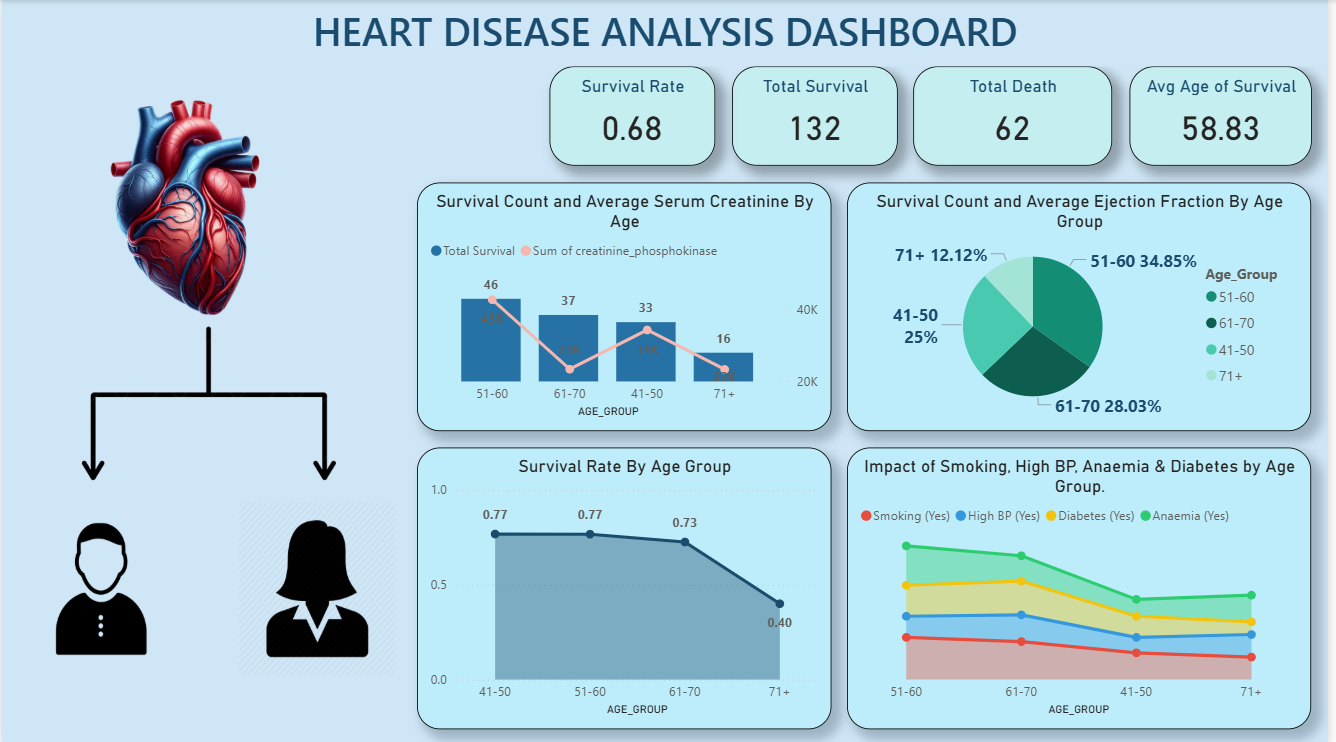

The page's visual inventory and layout, read from the dashboard file:
{"tool":"powerbi","page":{"name":"Page 1","canvas":[1280,720],"ordinal":0},"visuals":[{"type":"card","title":"Total Survival","fields":{"Values":["heartfail.Total Survival"]},"box":[704,64,160,96],"z":0},{"type":"card","title":"Survival Rate","fields":{"Values":["heartfail.Survival Rate"]},"box":[528,64,160,96],"z":1000},{"type":"card","title":"Total Death","fields":{"Values":["heartfail.Total Death"]},"box":[880,64,192,96],"z":2000},{"type":"card","title":"Avg Age of Survival","fields":{"Values":["heartfail.Survival % by Age"]},"box":[1088,64,176,96],"z":3000},{"type":"lineClusteredColumnComboChart","title":"Survival Count and Average Serum Creatinine By Age","fields":{"Category":["heartfail.AGE_GROUP"],"Y":["heartfail.Total Survival"],"Y2":["Sum(heartfail.creatinine_phosphokinase)"]},"box":[400,176,400,240],"z":4000},{"type":"pieChart","title":"Survival Count and Average Ejection Fraction By Age Group","fields":{"Category":["heartfail.AGE_GROUP"],"Y":["heartfail.Total Survival"]},"box":[816,176,448,240],"z":5000},{"type":"areaChart","title":"Survival Rate By Age Group","fields":{"Category":["heartfail.AGE_GROUP"],"Y":["heartfail.Survival Rate"]},"box":[400,432,400,272],"z":6000},{"type":"stackedAreaChart","title":"Impact of Smoking, High BP, Anaemia & Diabetes by Age Group.","fields":{"Category":["heartfail.AGE_GROUP"],"Y":["heartfail.Smoking (Yes)","heartfail.High BP (Yes)","heartfail.Diabetes (Yes)","heartfail.Anaemia (Yes)"]},"box":[816,432,448,272],"z":7000},{"type":"textbox","box":[0,0,1280,64],"z":8000},{"type":"slicer","fields":{"Values":["heartfail.sex"]},"box":[0,704,16,16],"z":9000},{"type":"actionButton","title":"♂","box":[16,480,160,176],"z":10000},{"type":"actionButton","title":"♀","box":[224,480,160,176],"z":11000},{"type":"actionButton","box":[64,80,224,240],"z":12000},{"type":"image","box":[16,256,368,288],"z":13000}]}

Visuals, with their boxes in screenshot pixels (x1, y1, x2, y2), scaled from the page's 1280x720 canvas onto the 1336x742 screenshot:
"Total Survival" card: left=735, top=66, right=902, bottom=165
"Survival Rate" card: left=551, top=66, right=718, bottom=165
"Total Death" card: left=918, top=66, right=1119, bottom=165
"Avg Age of Survival" card: left=1136, top=66, right=1319, bottom=165
"Survival Count and Average Serum Creatinine By Age" lineClusteredColumnComboChart: left=418, top=181, right=835, bottom=429
"Survival Count and Average Ejection Fraction By Age Group" pieChart: left=852, top=181, right=1319, bottom=429
"Survival Rate By Age Group" areaChart: left=418, top=445, right=835, bottom=726
"Impact of Smoking, High BP, Anaemia & Diabetes by Age Group." stackedAreaChart: left=852, top=445, right=1319, bottom=726
textbox: left=0, top=0, right=1335, bottom=66
slicer - heartfail.sex: left=0, top=726, right=17, bottom=741
"♂" actionButton: left=17, top=495, right=184, bottom=676
"♀" actionButton: left=234, top=495, right=401, bottom=676
actionButton: left=67, top=82, right=301, bottom=330
image: left=17, top=264, right=401, bottom=561
